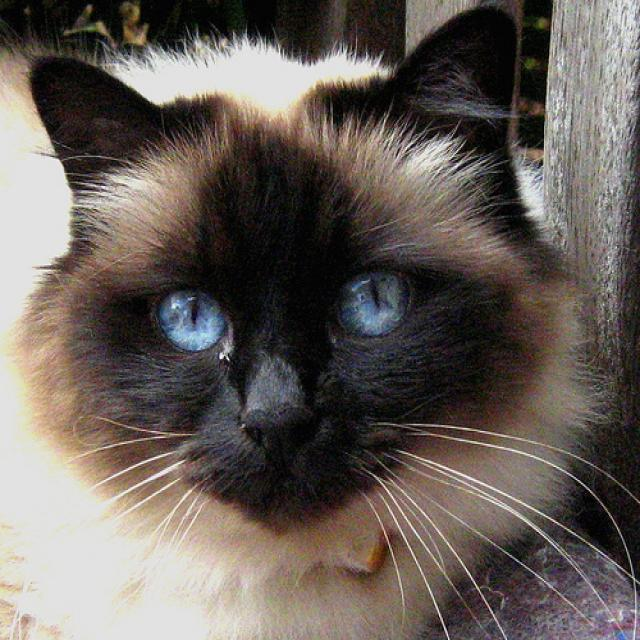Birman: (2, 0, 609, 583)
